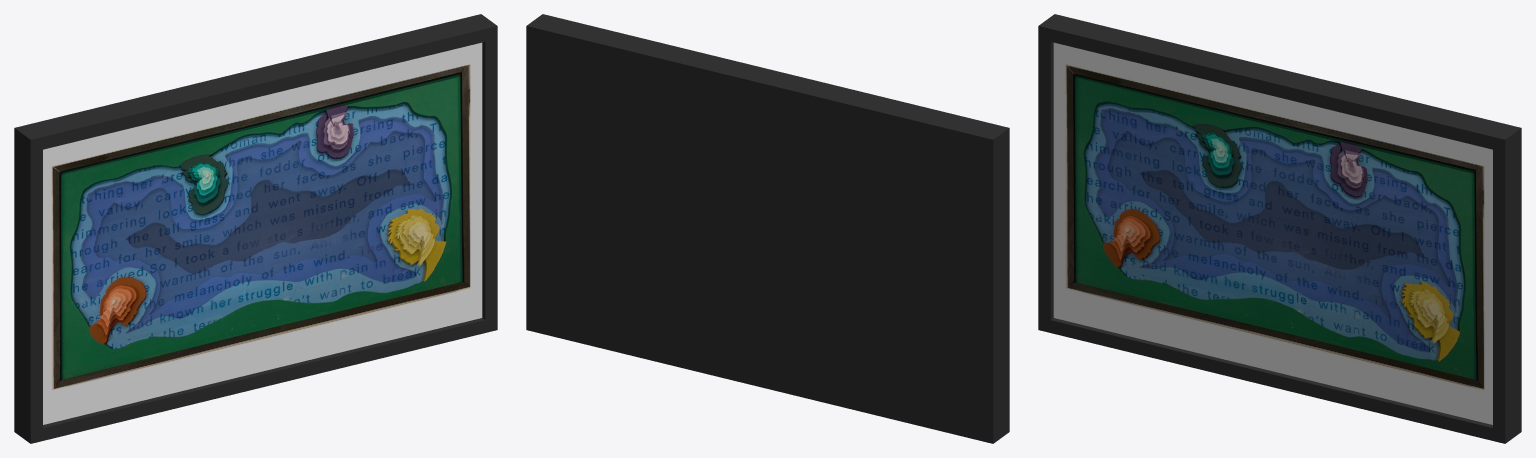
The model's file is ART26_IMG_1820.fbx.
The picture shows the model from 3 angles, left to right: view 1: azimuth 30°, elevation 25°; view 2: azimuth 150°, elevation 25°; view 3: azimuth 330°, elevation 25°; orthographic projection.
Parts seen in each view (by area): view 1: ART26_IMG_1820; view 2: ART26_IMG_1820; view 3: ART26_IMG_1820.
Boxes of the visible parts, <box> form: ART26_IMG_1820: <box>14,14,497,443</box>; ART26_IMG_1820: <box>526,14,1009,443</box>; ART26_IMG_1820: <box>1038,14,1521,443</box>.
Size of the model in its own units: 95 by 5.75 by 59.14.
Materials: 2 (1 with a texture image).
